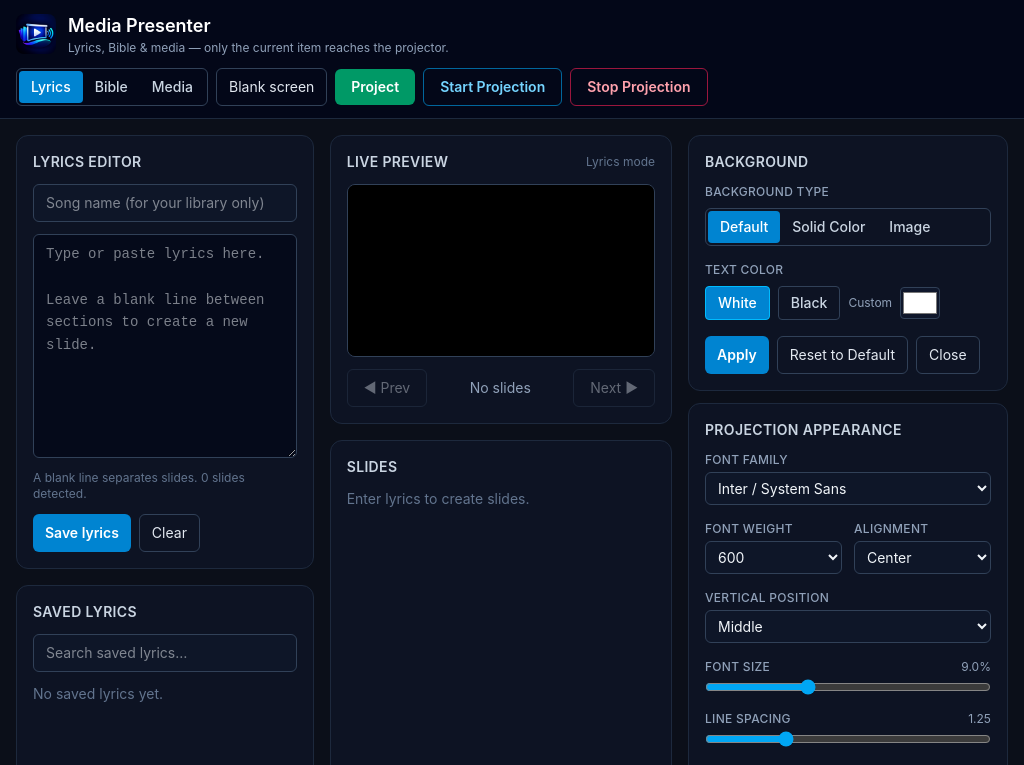
Test: Operator › switches to Bible mode and projects verse text without references
Expected: the text "No saved lyrics yet." is shown, [33, 685, 163, 702]
Click the button "Bible": (111, 87) [83, 71, 140, 103]
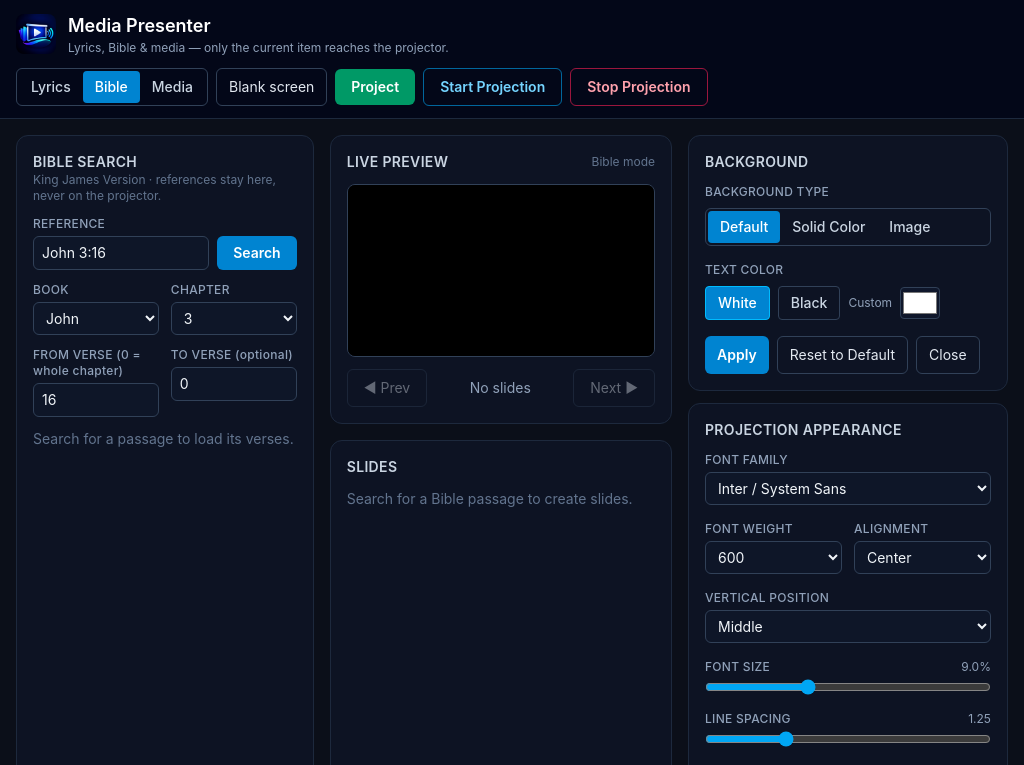
Expected: the field with placeholder "Type or paste lyrics" is not shown
Now the heading "Bible search" is shown, box [33, 153, 137, 170]
Note: Search for the default reference.
Click the button "Search": (257, 253) [217, 236, 297, 270]
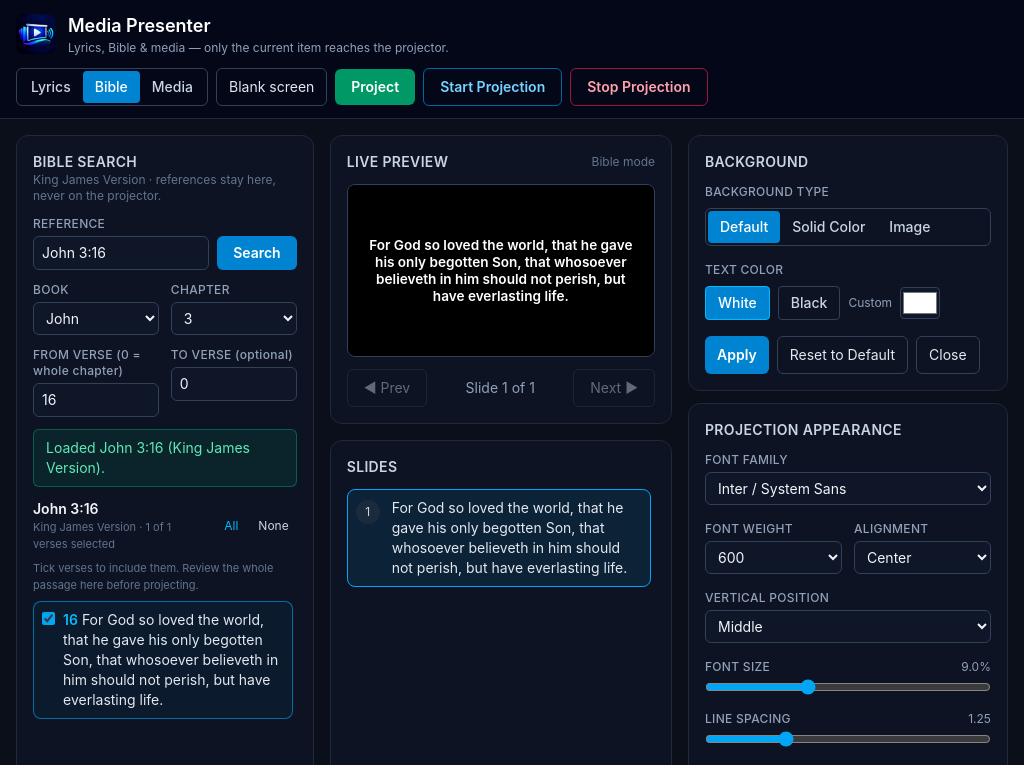
Now the text "Slide 1 of 1" is shown, box [466, 378, 535, 398]
Now the text "For God so loved the world" below "verses selected" is shown, box [63, 611, 282, 708]
